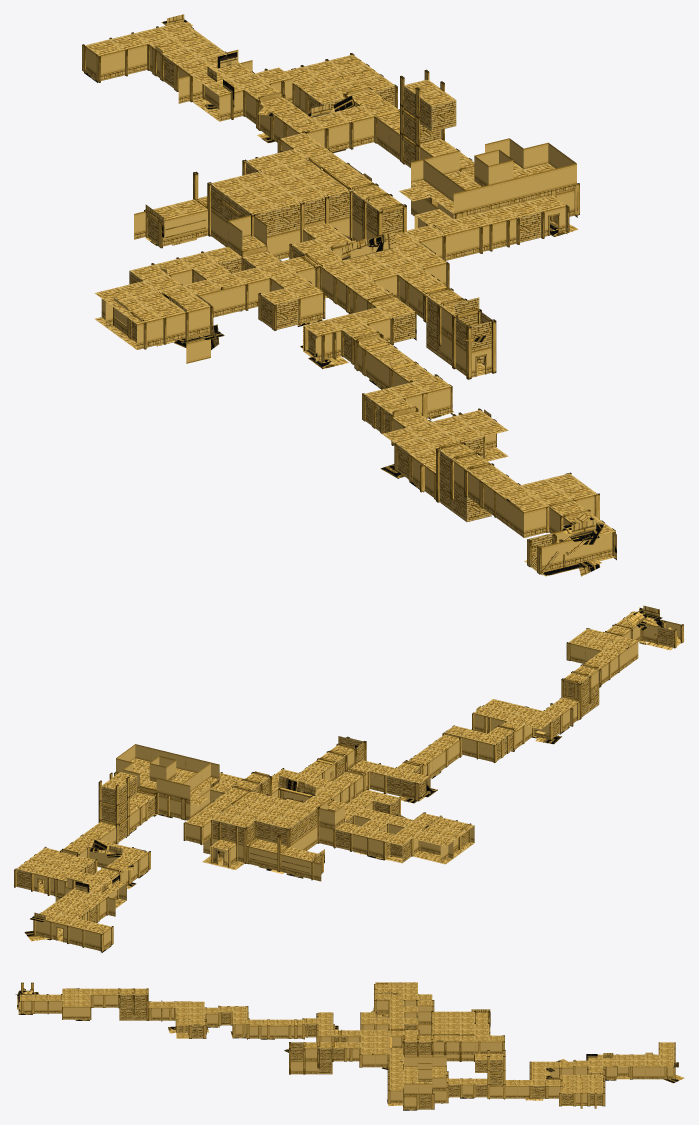
File: Labirinto_B.glb
3 views of the same model, one above another, from view 1: azimuth 30°, elevation 25°; view 2: azimuth 150°, elevation 25°; view 3: azimuth 270°, elevation 25° (orthographic). The views are drawn at different scales.
Visible parts, largest first — view 1: Combined Mesh (root_ scene)_Default OBJ_0, Combined Mesh (root_ scene) 2_Default OBJ.001_0; view 2: Combined Mesh (root_ scene)_Default OBJ_0, Combined Mesh (root_ scene) 2_Default OBJ.001_0; view 3: Combined Mesh (root_ scene)_Default OBJ_0, Combined Mesh (root_ scene) 2_Default OBJ.001_0.
Part boxes in pixels (box(x1,y1,x2,y2)): Combined Mesh (root_ scene)_Default OBJ_0: box(82, 14, 616, 576); Combined Mesh (root_ scene) 2_Default OBJ.001_0: box(94, 44, 615, 537); Combined Mesh (root_ scene)_Default OBJ_0: box(14, 605, 684, 952); Combined Mesh (root_ scene) 2_Default OBJ.001_0: box(38, 611, 638, 920); Combined Mesh (root_ scene)_Default OBJ_0: box(15, 982, 684, 1110); Combined Mesh (root_ scene) 2_Default OBJ.001_0: box(19, 982, 589, 1106).
Bounding box in the file's own units: 191 × 42.16 × 472.
2 materials, 2 textured.
